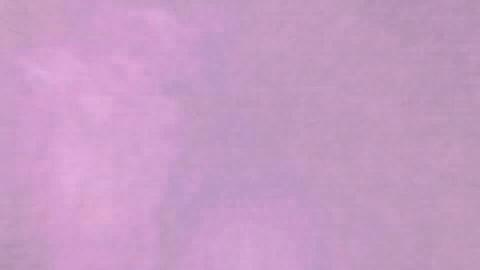tomato: (374, 124, 478, 268)
